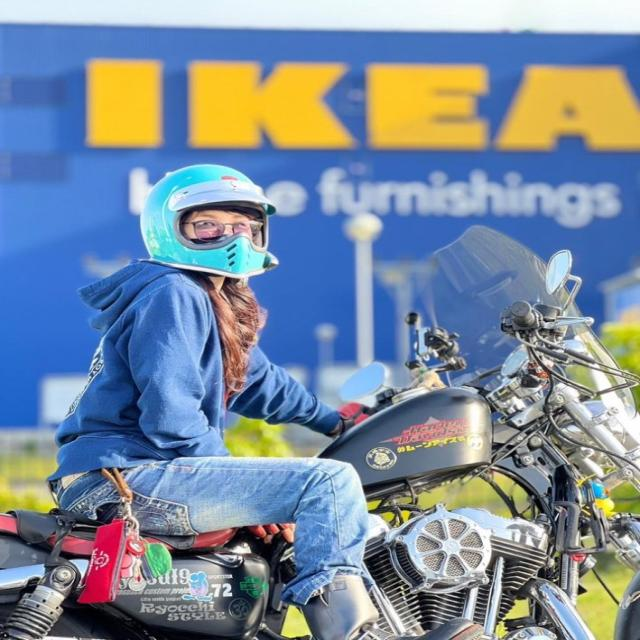helmet: (134, 160, 281, 283)
